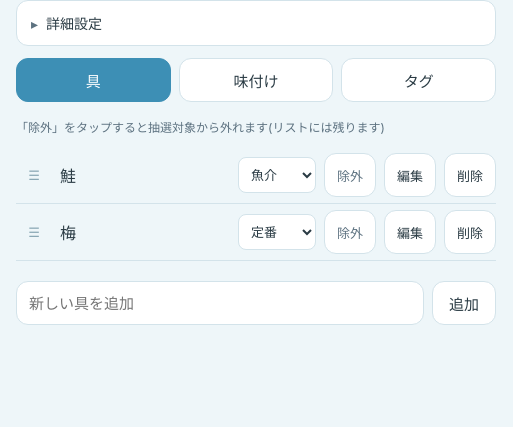
Test case: ManageScreen › タグジャンル › タグタブ切替でタグ一覧が表示される
Click the tab "タグ": [419, 80] box [341,58,496,102]
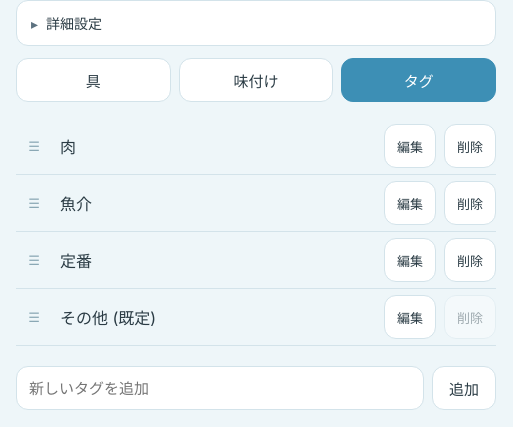
Result: the text "肉" is shown at [60,137,76,157]
Result: the text "魚介" is shown at [60,194,92,214]
Result: the text "鮭" is gone
